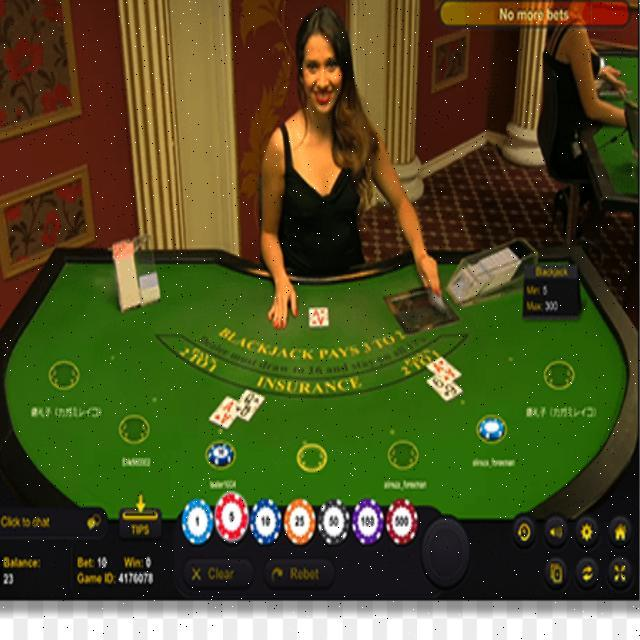Card-6: (426, 374, 463, 403)
Card-A: (208, 395, 238, 430), (427, 356, 461, 384), (309, 306, 329, 326)
Card-Q: (231, 389, 265, 421)
